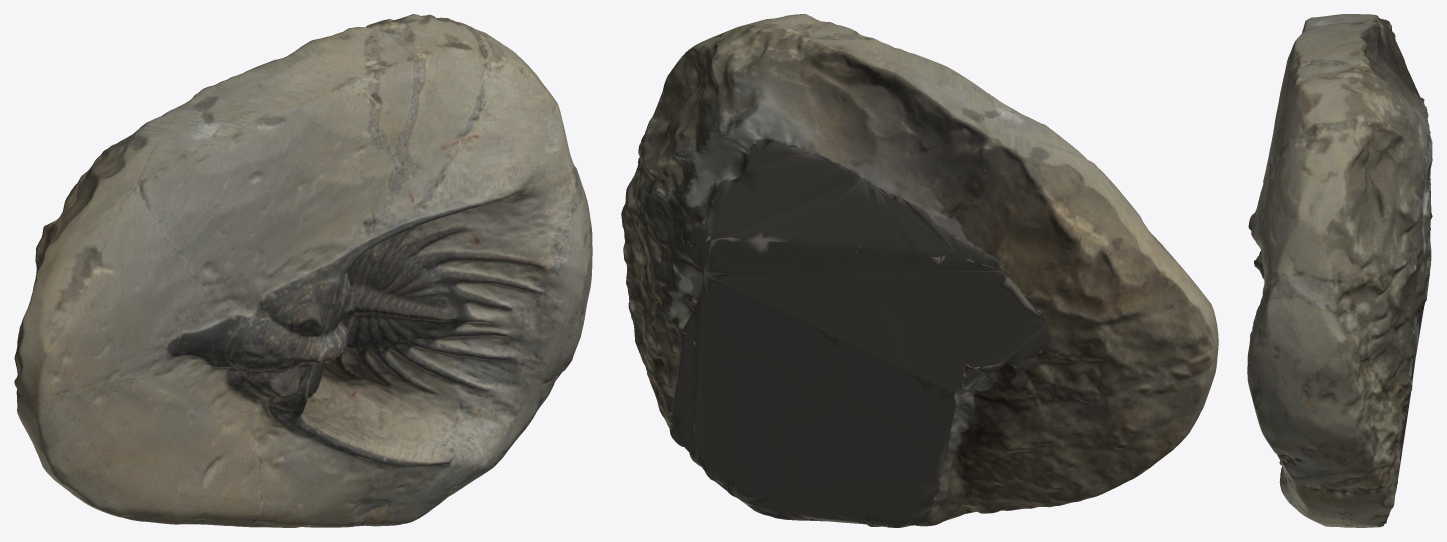
3 renders of one model, left to right at view 1: azimuth 30°, elevation 25°; view 2: azimuth 150°, elevation 25°; view 3: azimuth 270°, elevation 25°, orthographic. The views are drawn at different scales.
Visible parts, largest first — view 1: specimen; view 2: specimen; view 3: specimen.
Part boxes in pixels (x1,y1,x2,y2): specimen: (14,14,592,527); specimen: (621,14,1218,527); specimen: (1247,14,1432,527).
Size of the model in its own units: 0.1664 by 0.1345 by 0.05.
1 material, 1 textured.
